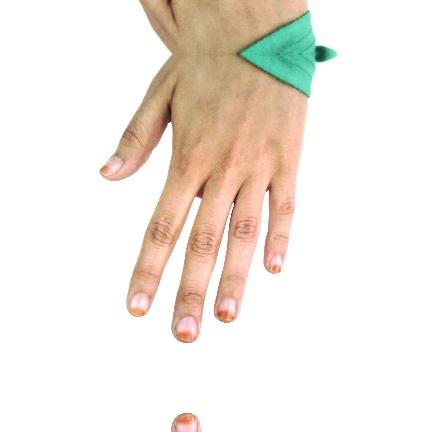Nail: (175, 315, 199, 342), (99, 156, 123, 176), (129, 293, 149, 317), (217, 298, 236, 321), (175, 414, 199, 432), (270, 255, 282, 273)
